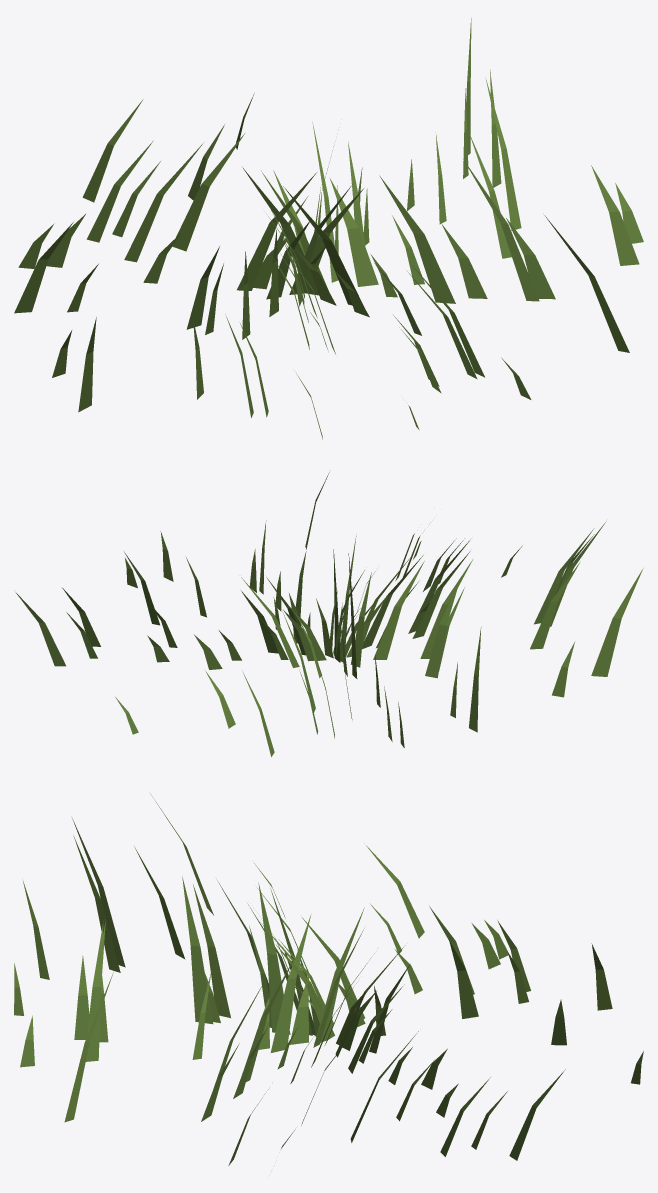
File: grass-tuft.glb
3 views of the same model, one above another, from view 1: azimuth 30°, elevation 25°; view 2: azimuth 150°, elevation 25°; view 3: azimuth 270°, elevation 25° (orthographic). The views are drawn at different scales.
Visible parts, largest first — view 1: grass-tuft; view 2: grass-tuft; view 3: grass-tuft.
Boxes of the visible parts, left/top/right/bottom form: grass-tuft: left=14, top=18, right=643, bottom=439; grass-tuft: left=14, top=470, right=643, bottom=756; grass-tuft: left=14, top=793, right=643, bottom=1165.
Bounding box in the file's own units: 0.896 × 0.19 × 0.8606.
